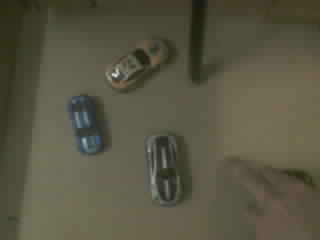Car: (107, 38, 168, 91), (146, 132, 182, 205), (68, 95, 103, 152)
